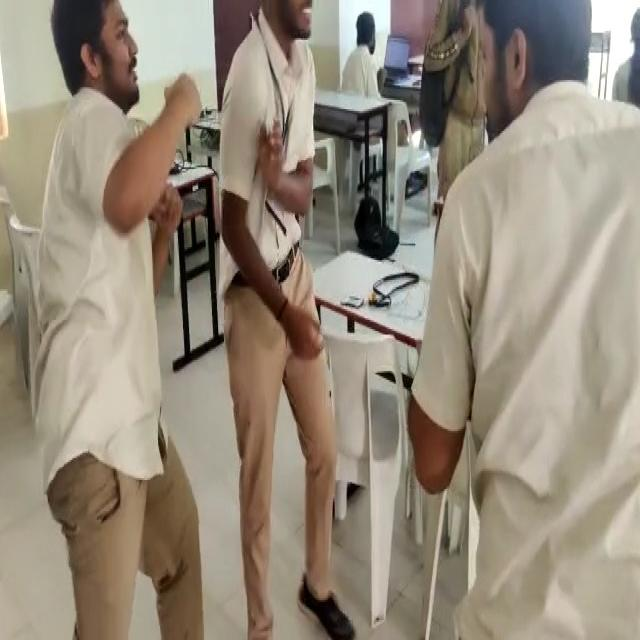fight: (28, 0, 639, 491)
